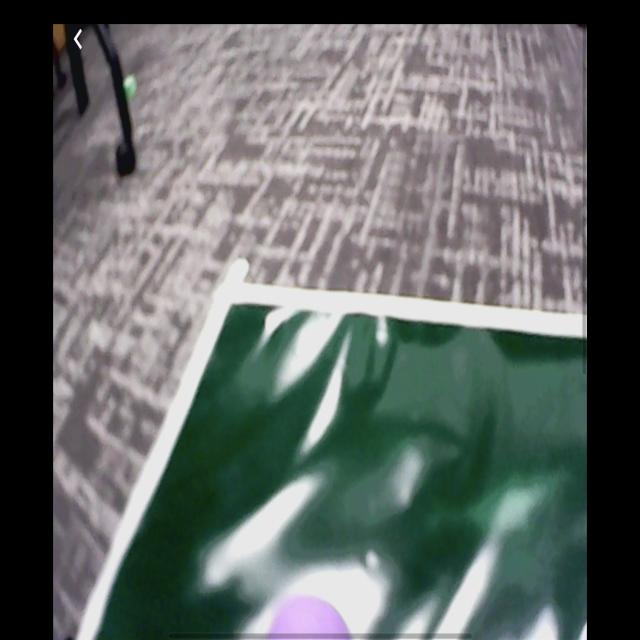ball: (268, 595, 353, 640)
